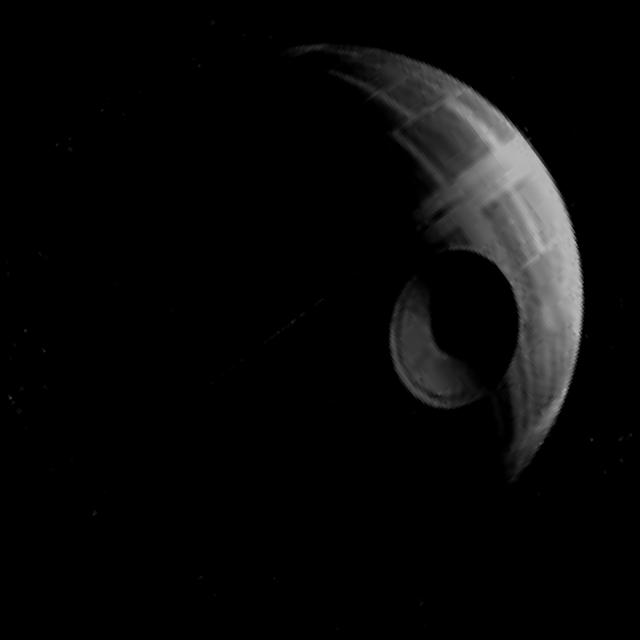death-stars: (51, 39, 584, 563)
